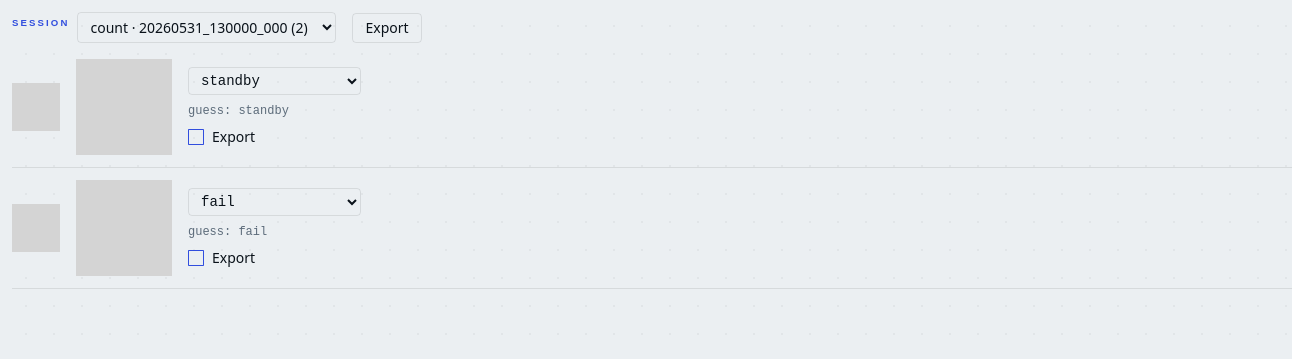
Test: LabelPanel › shows the export folder path after exporting
Click the checkbox named "export frame 0" at [196, 137], box [188,129,204,145]
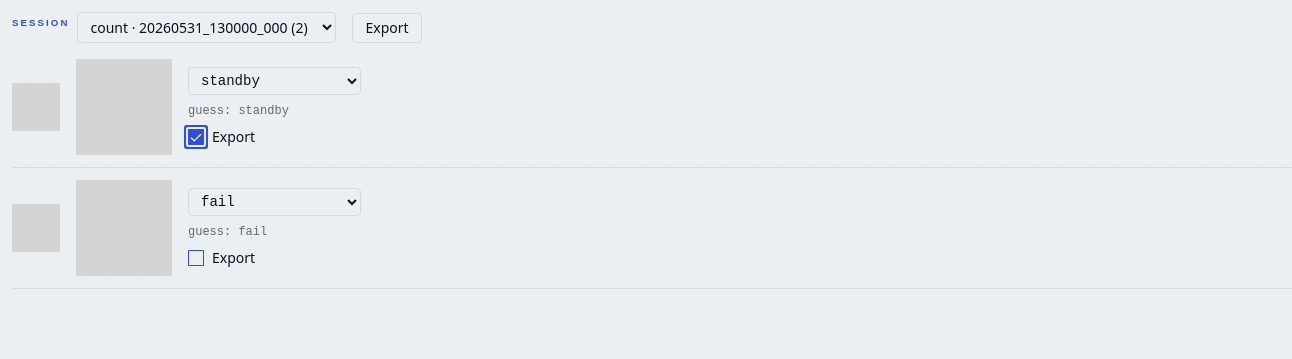
Click the button "Export" at [387, 28], box [352,12,422,42]
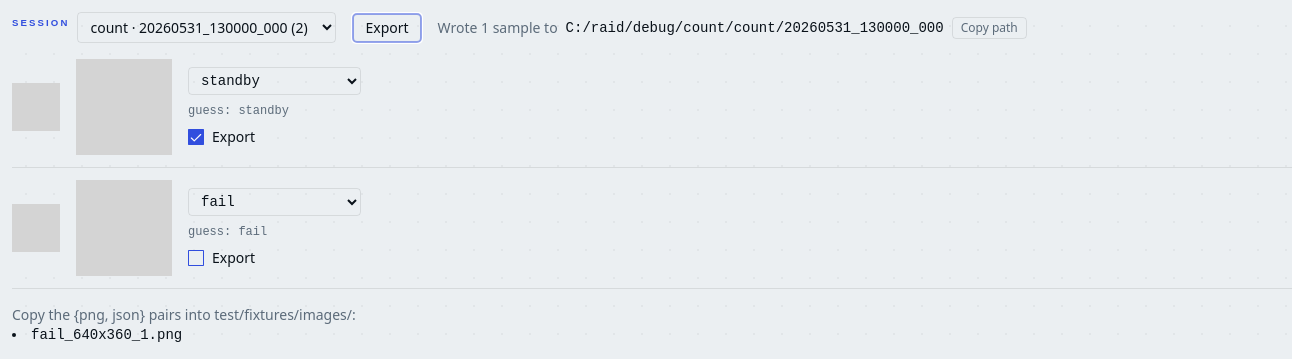
Result: the text "C:/raid/debug/count/count/20260531_130000_000" is shown at [566,18,944,38]
